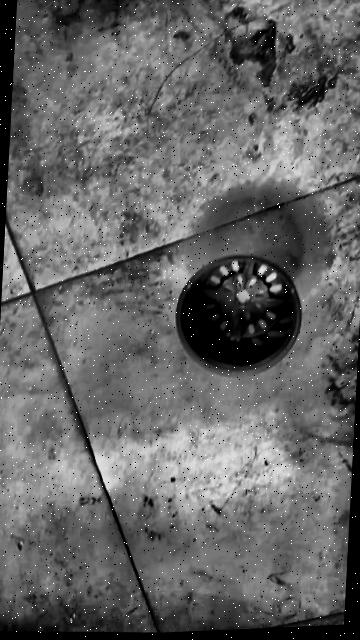pot: (172, 249, 304, 381)
